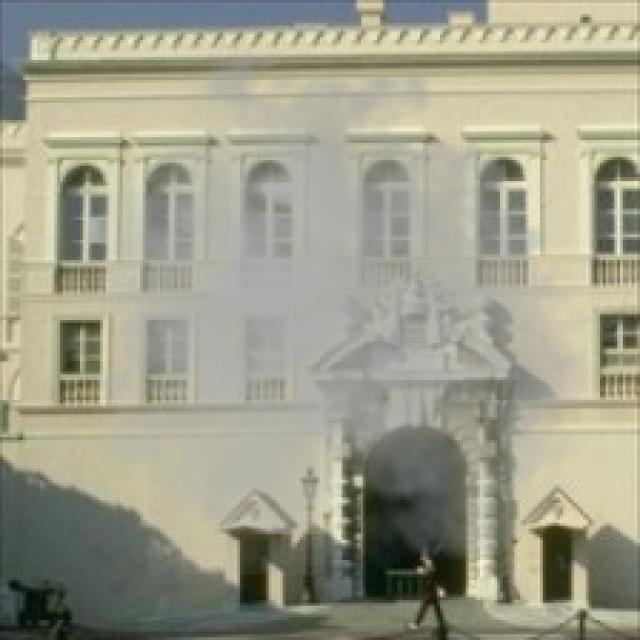smoke: (51, 32, 608, 574)
